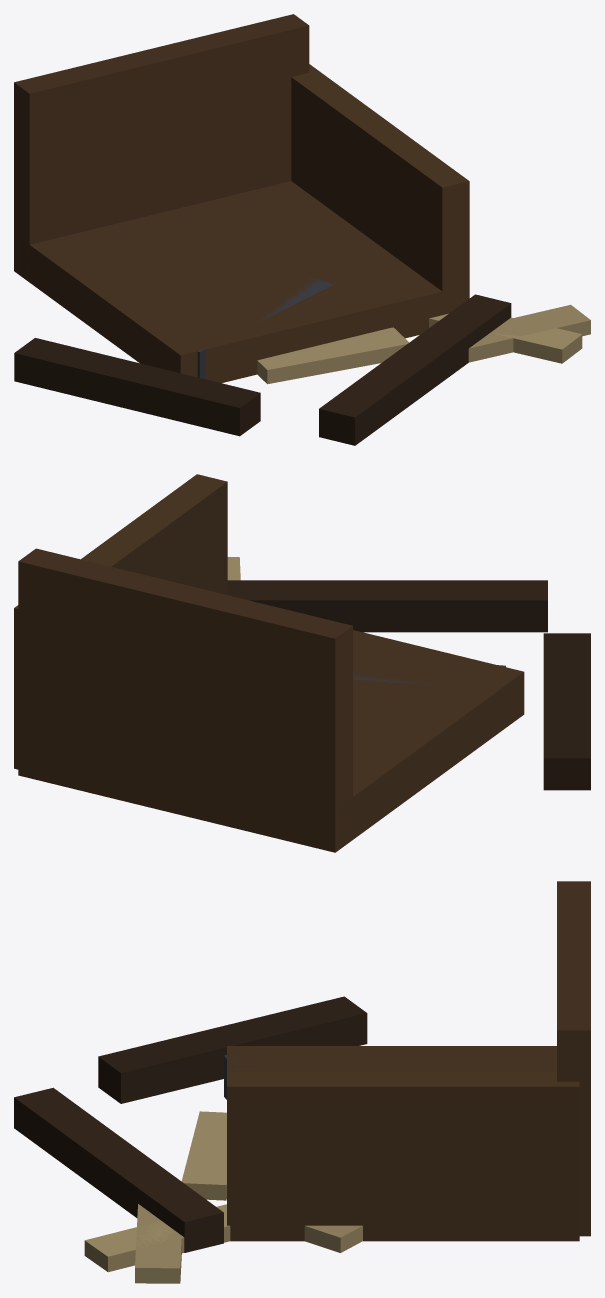
Rendered from crate_broken.glb.
3 views of the same model, one above another, from view 1: azimuth 30°, elevation 25°; view 2: azimuth 150°, elevation 25°; view 3: azimuth 270°, elevation 25° (orthographic). The views are drawn at different scales.
Parts seen in each view (by area): view 1: CrateBroken; view 2: CrateBroken; view 3: CrateBroken.
Boxes of the visible parts, left/top/right/bottom form: CrateBroken: left=14, top=14, right=590, bottom=445; CrateBroken: left=14, top=474, right=590, bottom=852; CrateBroken: left=14, top=881, right=590, bottom=1283.
Bounding box in the file's own units: 1.07 × 0.4 × 1.01.
